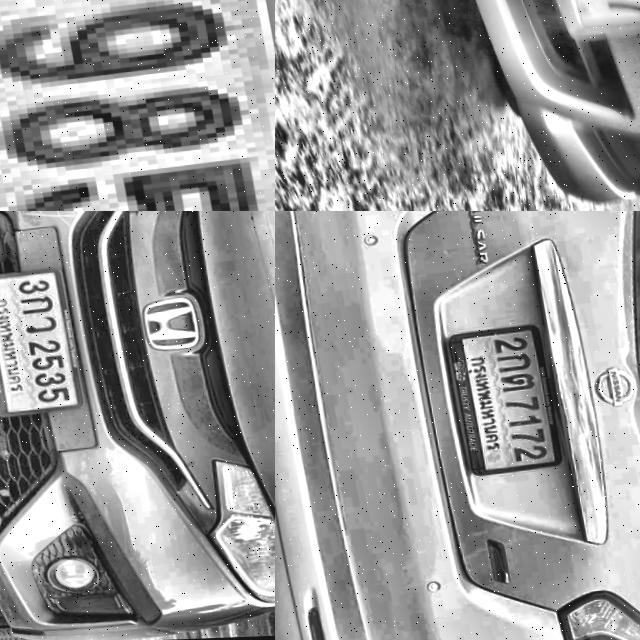license-plate: (0, 0, 275, 211), (435, 324, 559, 480), (0, 266, 83, 418)
